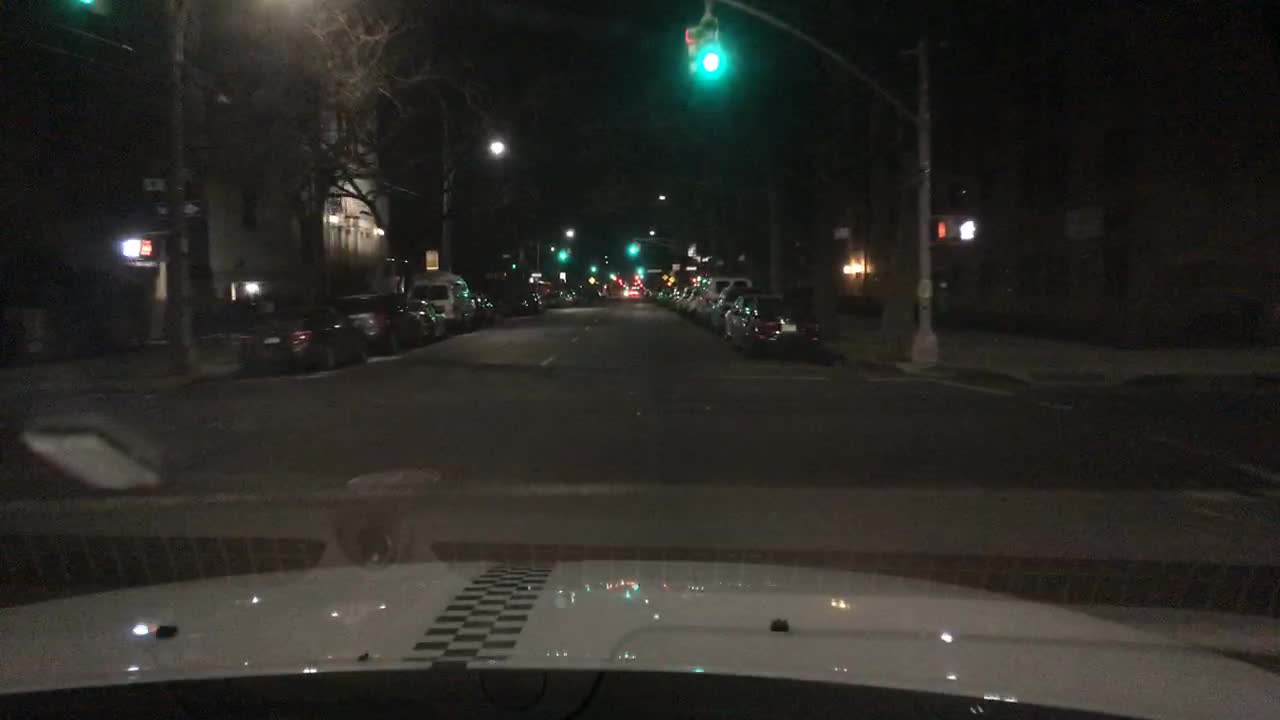car: (241, 301, 369, 377), (334, 290, 408, 355), (401, 272, 477, 334), (745, 299, 823, 355), (479, 265, 546, 314), (723, 289, 782, 339), (707, 280, 764, 331), (393, 299, 447, 346), (698, 274, 749, 321), (536, 277, 585, 307), (469, 289, 496, 324), (578, 277, 607, 307), (676, 287, 705, 312), (673, 282, 691, 309), (668, 284, 683, 299), (626, 285, 641, 299)
traffic light: (700, 18, 719, 72), (685, 25, 698, 74), (955, 218, 977, 239), (118, 233, 136, 256), (935, 219, 953, 239), (136, 236, 152, 256), (626, 238, 638, 258), (79, 0, 98, 12), (553, 245, 565, 261), (631, 263, 646, 275), (585, 260, 597, 273)
traffic sign: (155, 192, 202, 219), (141, 174, 165, 191)
